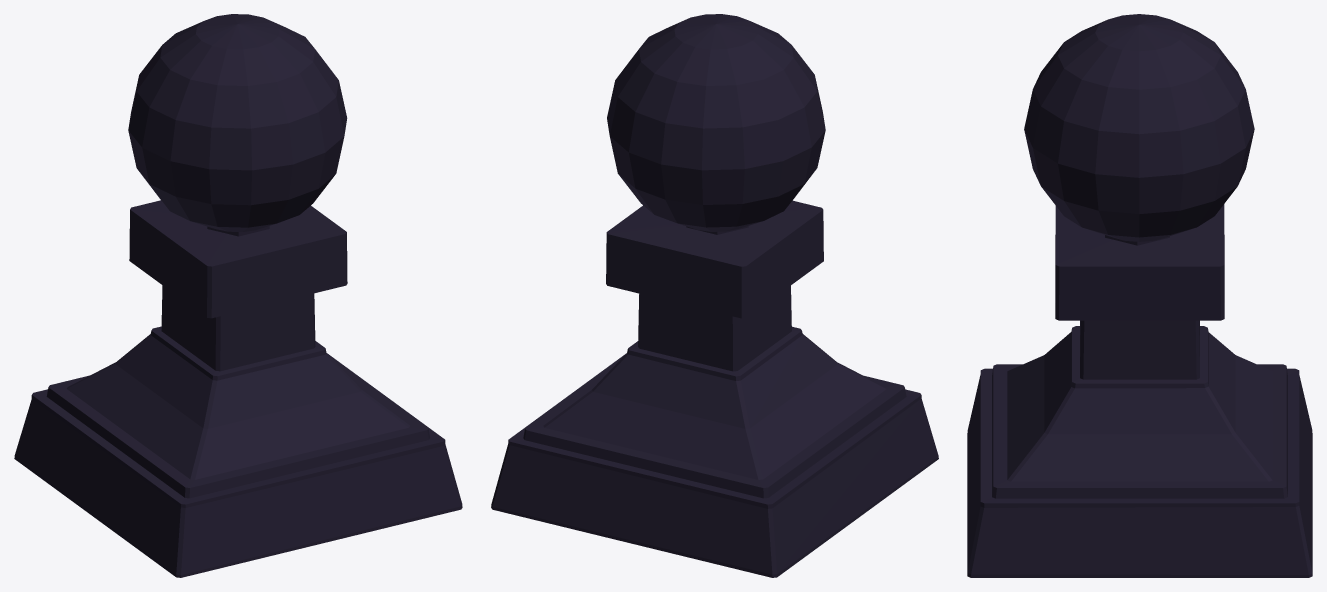
File: MCastle_Fixtures_00.FBX
3 views of the same model, side by side, from view 1: azimuth 30°, elevation 25°; view 2: azimuth 150°, elevation 25°; view 3: azimuth 270°, elevation 25° (orthographic). The views are drawn at different scales.
Visible parts, largest first — view 1: MCastle_Fixtures_00_LOD0; view 2: MCastle_Fixtures_00_LOD0; view 3: MCastle_Fixtures_00_LOD0.
Boxes of the visible parts, box(x1,y1,x2,y2) form: MCastle_Fixtures_00_LOD0: box(14, 14, 462, 577); MCastle_Fixtures_00_LOD0: box(491, 14, 938, 577); MCastle_Fixtures_00_LOD0: box(967, 14, 1312, 577).
Size of what is drawn, in the model's own units: 1.44 by 2.2 by 1.44.
